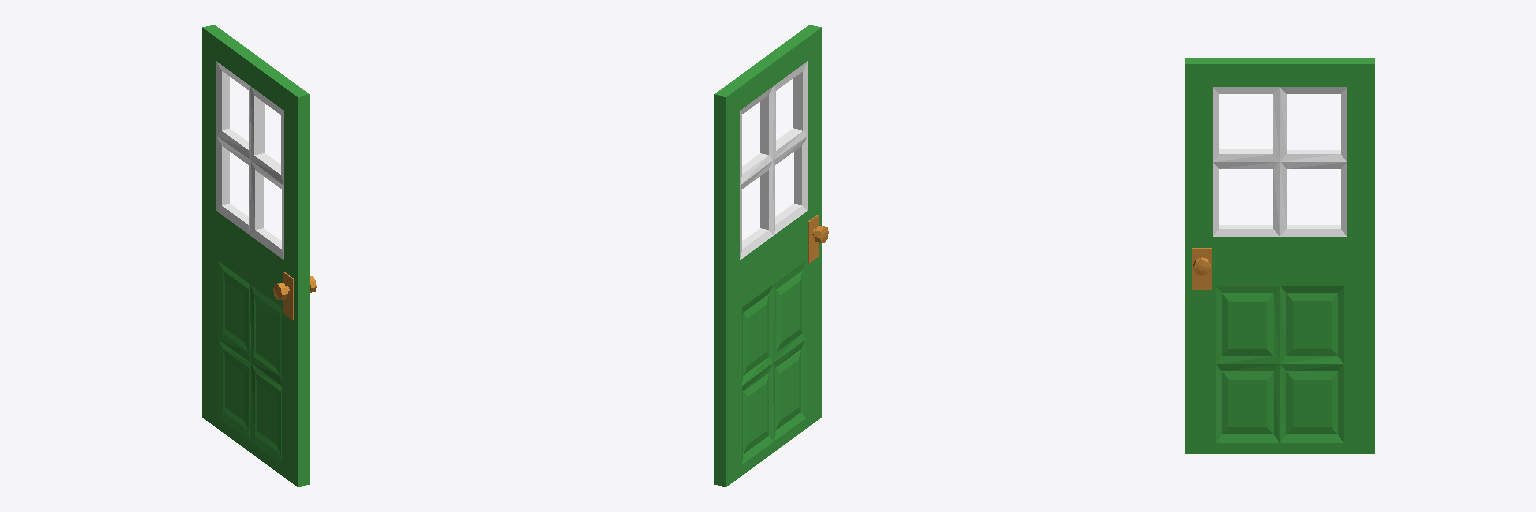
The model's file is Door_01.obj.
3 renders of one model, left to right at view 1: azimuth 30°, elevation 25°; view 2: azimuth 150°, elevation 25°; view 3: azimuth 270°, elevation 25°, orthographic.
Parts seen in each view (by area): view 1: door_Cube.030; view 2: door_Cube.030; view 3: door_Cube.030.
Part boxes in pixels (bbox=[...]): door_Cube.030: bbox=[202, 25, 316, 486]; door_Cube.030: bbox=[714, 25, 828, 486]; door_Cube.030: bbox=[1185, 58, 1374, 453].
Bounding box in the file's own units: 0.9703 × 9.96 × 4.42.